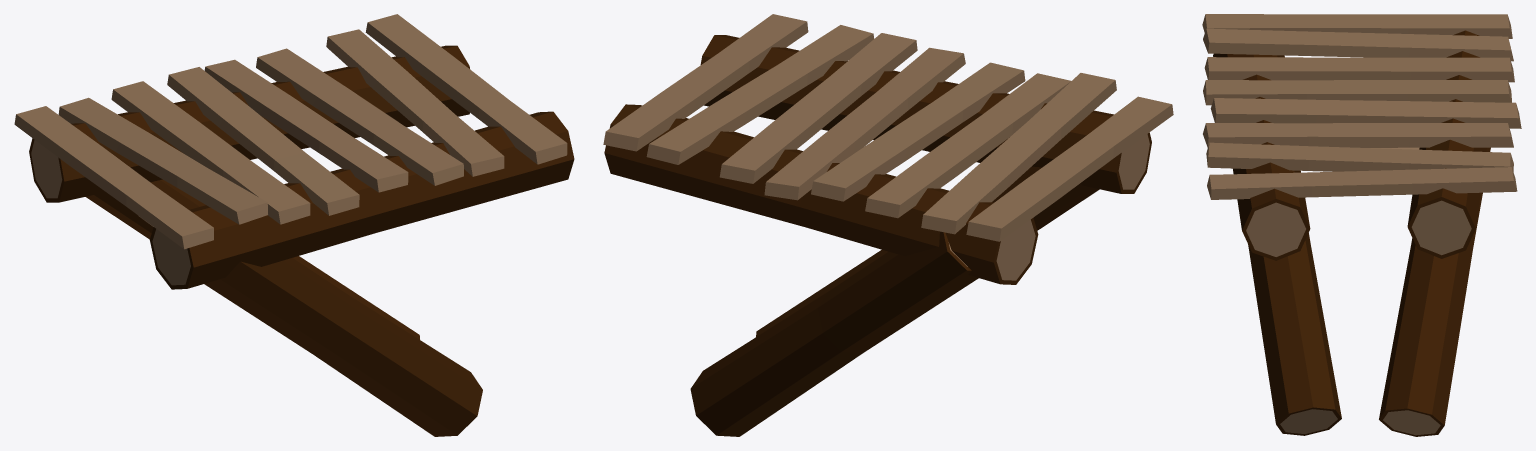
Rendered from Deck (1).fbx.
3 renders of one model, left to right at view 1: azimuth 30°, elevation 25°; view 2: azimuth 150°, elevation 25°; view 3: azimuth 270°, elevation 25°, orthographic. The views are drawn at different scales.
Visible parts, largest first — view 1: Deck.001, Deck.003, Cube.026, Cube.032, Cube.034, Cube.028, Deck.002, Cube.027, Cube.031, Cube.030, Cube.029, Deck; view 2: Deck, Deck.002, Cube.031, Cube.027, Cube.032, Cube.028, Cube.034, Cube.029, Deck.003, Cube.030, Cube.026, Deck.001; view 3: Deck, Deck.001, Cube.026, Cube.031, Cube.028, Cube.029, Cube.030, Cube.027, Cube.034, Cube.032, Deck.003, Deck.002.
Part boxes in pixels (<box>): Deck.001: <box>204,258,482,436</box>; Deck.003: <box>150,111,574,289</box>; Cube.026: <box>365,14,567,164</box>; Cube.032: <box>14,106,213,249</box>; Cube.034: <box>167,67,359,215</box>; Cube.028: <box>256,48,463,185</box>; Deck.002: <box>29,45,469,202</box>; Cube.027: <box>326,29,504,176</box>; Cube.031: <box>58,97,267,224</box>; Cube.030: <box>111,81,310,224</box>; Cube.029: <box>204,59,408,192</box>; Deck: <box>85,179,419,339</box>; Deck: <box>690,231,978,436</box>; Deck.002: <box>604,104,1038,284</box>; Cube.031: <box>921,73,1116,234</box>; Cube.027: <box>646,25,874,164</box>; Cube.032: <box>966,96,1173,241</box>; Cube.028: <box>719,33,917,183</box>; Cube.034: <box>811,62,1025,201</box>; Cube.029: <box>764,47,965,200</box>; Deck.003: <box>700,35,1151,193</box>; Cube.030: <box>865,73,1070,218</box>; Cube.026: <box>603,14,808,151</box>; Deck.001: <box>756,166,1099,336</box>; Deck: <box>1379,147,1490,436</box>; Deck.001: <box>1248,233,1341,435</box>; Cube.026: <box>1207,167,1517,199</box>; Cube.031: <box>1203,28,1513,61</box>; Cube.028: <box>1203,123,1513,147</box>; Cube.029: <box>1210,98,1521,128</box>; Cube.030: <box>1204,57,1514,82</box>; Cube.027: <box>1206,142,1513,171</box>; Cube.034: <box>1203,80,1511,105</box>; Cube.032: <box>1202,14,1512,38</box>; Deck.003: <box>1213,53,1310,260</box>; Deck.002: <box>1407,30,1486,258</box>.
Size of the model in its own units: 676 by 513 by 500.
